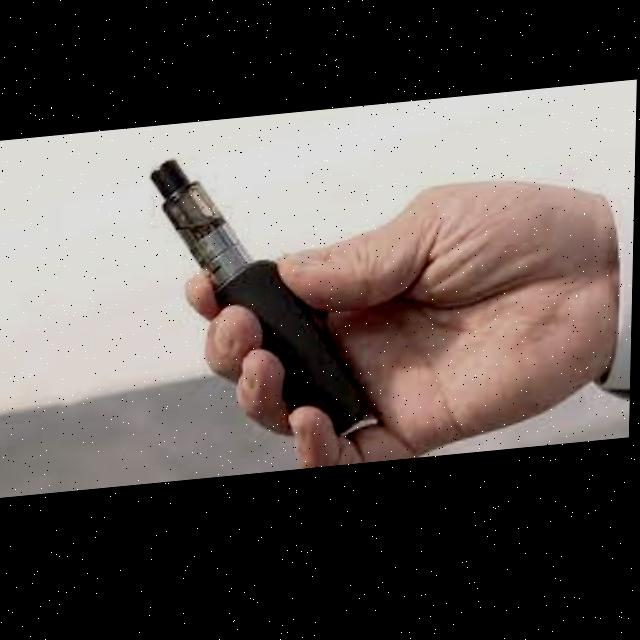vape: (145, 143, 384, 464)
